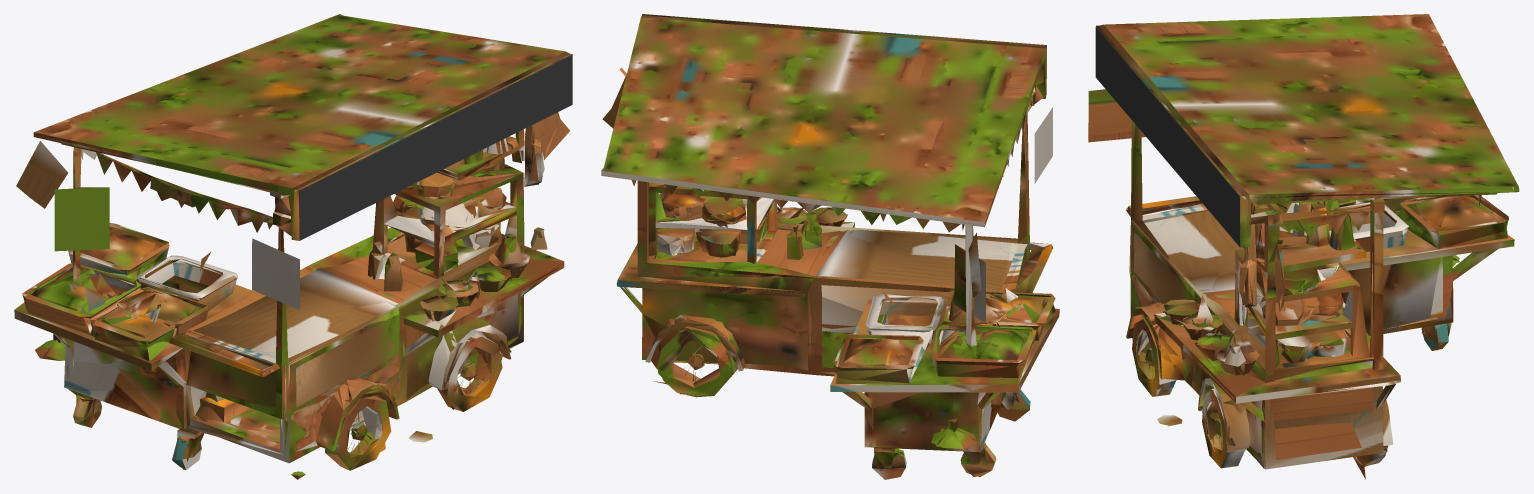
The model's file is ArepasTotal.fbx.
3 views of the same model, side by side, from view 1: azimuth 30°, elevation 25°; view 2: azimuth 150°, elevation 25°; view 3: azimuth 270°, elevation 25° (orthographic). The views are drawn at different scales.
Visible parts, largest first — view 1: Alta, Media, Baja; view 2: Alta, Media, Baja; view 3: Alta, Media, Baja.
Part boxes in pixels (bbox=[...]): Alta: bbox=[14, 14, 572, 479]; Media: bbox=[22, 54, 572, 468]; Baja: bbox=[16, 131, 562, 471]; Alta: bbox=[601, 15, 1059, 479]; Media: bbox=[619, 14, 1052, 476]; Baja: bbox=[603, 45, 1055, 476]; Alta: bbox=[1088, 14, 1519, 479]; Media: bbox=[1096, 26, 1507, 468]; Baja: bbox=[1096, 25, 1518, 468].
Size of the model in its own units: 386 by 242 by 289.
